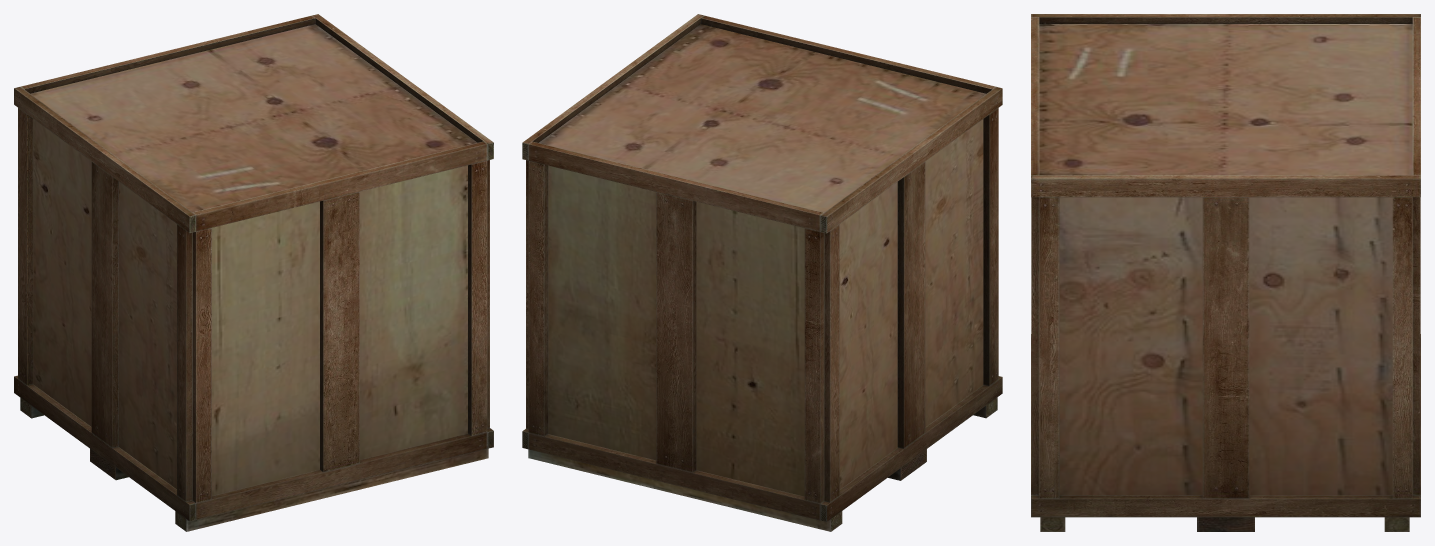
The model's file is Crate02.glb.
The picture shows the model from 3 angles, left to right: view 1: azimuth 30°, elevation 25°; view 2: azimuth 150°, elevation 25°; view 3: azimuth 270°, elevation 25°; orthographic projection. The views are drawn at different scales.
Parts seen in each view (by area): view 1: Crate02; view 2: Crate02; view 3: Crate02.
Part boxes in pixels (x1,y1,x2,y2): Crate02: [14, 14, 493, 531]; Crate02: [522, 14, 1002, 531]; Crate02: [1031, 14, 1420, 531].
Bounding box in the file's own units: 1.11 × 1.11 × 1.11.
1 material, 1 textured.
